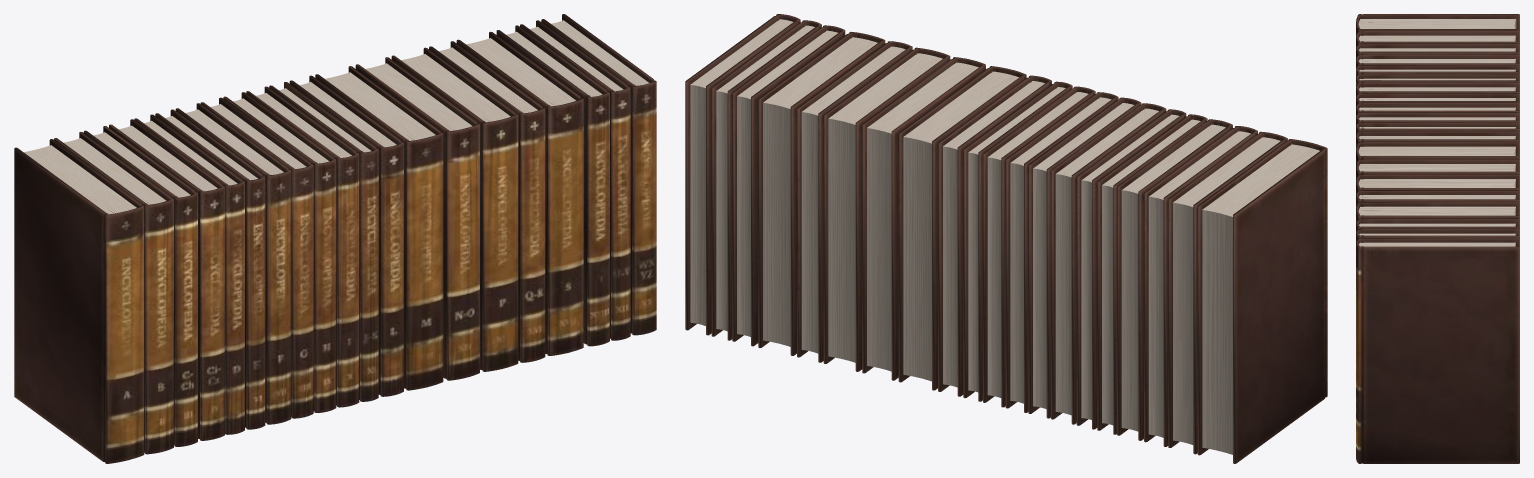
The model's file is book_encyclopedia_set_01.glb.
3 views of the same model, side by side, from view 1: azimuth 30°, elevation 25°; view 2: azimuth 150°, elevation 25°; view 3: azimuth 270°, elevation 25° (orthographic). The views are drawn at different scales.
Visible parts, largest first — view 1: book_encyclopedia_set_01_book01, book_encyclopedia_set_01_book13, book_encyclopedia_set_01_book15, book_encyclopedia_set_01_book17, book_encyclopedia_set_01_book14, book_encyclopedia_set_01_book02, book_encyclopedia_set_01_book16, book_encyclopedia_set_01_book04, book_encyclopedia_set_01_book18, book_encyclopedia_set_01_book20, book_encyclopedia_set_01_book07, book_encyclopedia_set_01_book12 (+8 smaller); view 2: book_encyclopedia_set_01_book01, book_encyclopedia_set_01_book13, book_encyclopedia_set_01_book15, book_encyclopedia_set_01_book17, book_encyclopedia_set_01_book14, book_encyclopedia_set_01_book02, book_encyclopedia_set_01_book04, book_encyclopedia_set_01_book16, book_encyclopedia_set_01_book18, book_encyclopedia_set_01_book20, book_encyclopedia_set_01_book07, book_encyclopedia_set_01_book12 (+8 smaller); view 3: book_encyclopedia_set_01_book20, book_encyclopedia_set_01_book13, book_encyclopedia_set_01_book01, book_encyclopedia_set_01_book17, book_encyclopedia_set_01_book15, book_encyclopedia_set_01_book14, book_encyclopedia_set_01_book02, book_encyclopedia_set_01_book16, book_encyclopedia_set_01_book03, book_encyclopedia_set_01_book04, book_encyclopedia_set_01_book12, book_encyclopedia_set_01_book07 (+8 smaller).
Part boxes in pixels (x1,y1,x2,y2): book_encyclopedia_set_01_book01: (14, 139, 144, 463); book_encyclopedia_set_01_book13: (315, 66, 443, 390); book_encyclopedia_set_01_book15: (391, 47, 518, 371); book_encyclopedia_set_01_book17: (456, 31, 583, 355); book_encyclopedia_set_01_book14: (355, 57, 479, 380); book_encyclopedia_set_01_book02: (54, 132, 173, 454); book_encyclopedia_set_01_book16: (429, 41, 545, 362); book_encyclopedia_set_01_book04: (109, 119, 224, 440); book_encyclopedia_set_01_book18: (496, 25, 609, 346); book_encyclopedia_set_01_book20: (541, 14, 656, 335); book_encyclopedia_set_01_book07: (175, 103, 291, 424); book_encyclopedia_set_01_book12: (289, 75, 403, 396); book_encyclopedia_set_01_book01: (1197, 139, 1327, 463); book_encyclopedia_set_01_book13: (898, 66, 1026, 390); book_encyclopedia_set_01_book15: (823, 47, 950, 371); book_encyclopedia_set_01_book17: (758, 32, 885, 355); book_encyclopedia_set_01_book14: (862, 57, 985, 380); book_encyclopedia_set_01_book02: (1168, 131, 1287, 454); book_encyclopedia_set_01_book04: (1117, 119, 1232, 440); book_encyclopedia_set_01_book16: (797, 41, 912, 362); book_encyclopedia_set_01_book18: (732, 25, 845, 346); book_encyclopedia_set_01_book20: (685, 14, 800, 335); book_encyclopedia_set_01_book07: (1051, 103, 1166, 424); book_encyclopedia_set_01_book12: (938, 75, 1051, 396); book_encyclopedia_set_01_book20: (1356, 238, 1519, 463); book_encyclopedia_set_01_book13: (1356, 142, 1519, 165); book_encyclopedia_set_01_book01: (1356, 14, 1519, 35); book_encyclopedia_set_01_book17: (1356, 202, 1519, 221); book_encyclopedia_set_01_book15: (1356, 174, 1519, 194); book_encyclopedia_set_01_book14: (1356, 159, 1519, 181); book_encyclopedia_set_01_book02: (1356, 30, 1519, 47); book_encyclopedia_set_01_book16: (1356, 190, 1519, 222); book_encyclopedia_set_01_book03: (1356, 43, 1519, 58); book_encyclopedia_set_01_book04: (1356, 54, 1519, 84); book_encyclopedia_set_01_book12: (1356, 131, 1519, 149); book_encyclopedia_set_01_book07: (1356, 82, 1519, 96).
Bounding box in the file's own units: 0.5513 × 0.2374 × 0.1631.
Materials: 2 (2 with a texture image).
